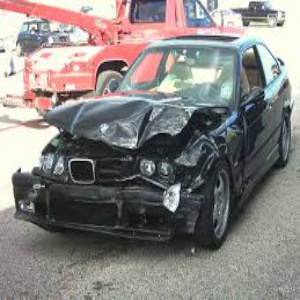bonnet: (52, 95, 197, 146)
bumper: (6, 169, 202, 243)
